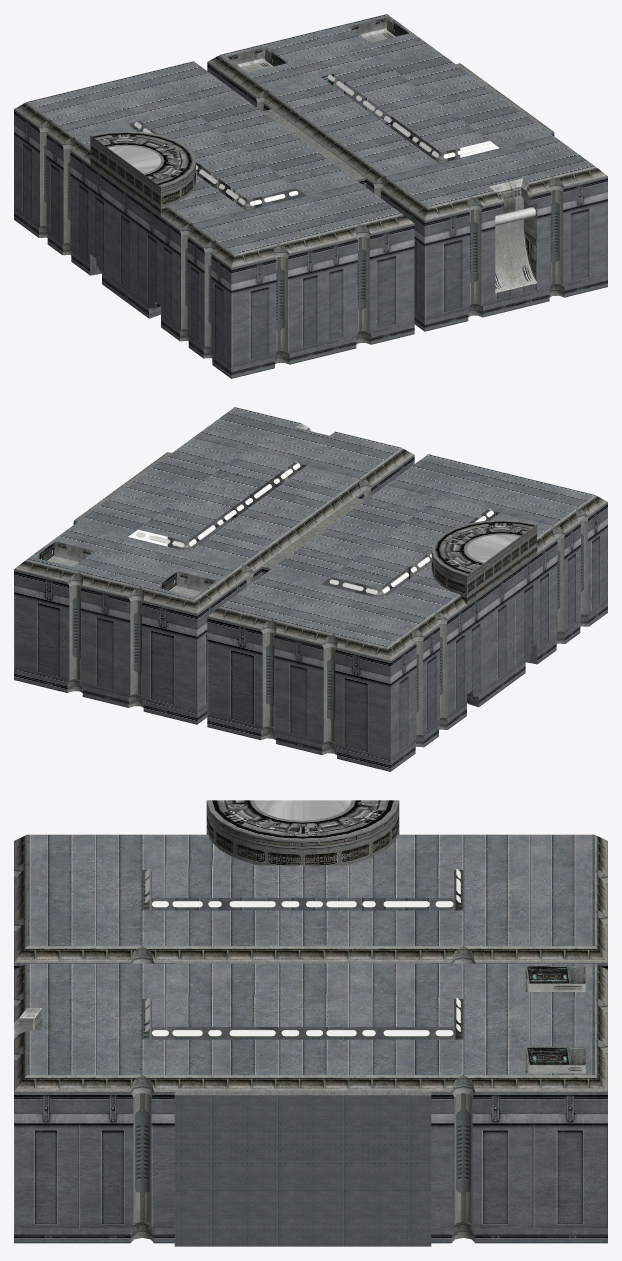
File: thm_nboo_thed_emp_retreat_r13_vader_mesh_r13.fbx
3 renders of one model, top to bottom at view 1: azimuth 30°, elevation 25°; view 2: azimuth 150°, elevation 25°; view 3: azimuth 270°, elevation 25°, orthographic. The views are drawn at different scales.
Visible parts, largest first — view 1: mesh_node; view 2: mesh_node; view 3: mesh_node.
Boxes of the visible parts, x1=… form: mesh_node: x1=14, y1=14, x2=607, y2=378; mesh_node: x1=14, y1=407, x2=607, y2=771; mesh_node: x1=14, y1=800, x2=607, y2=1246.
Bounding box in the file's own units: 18.75 × 6.6 × 18.5.
